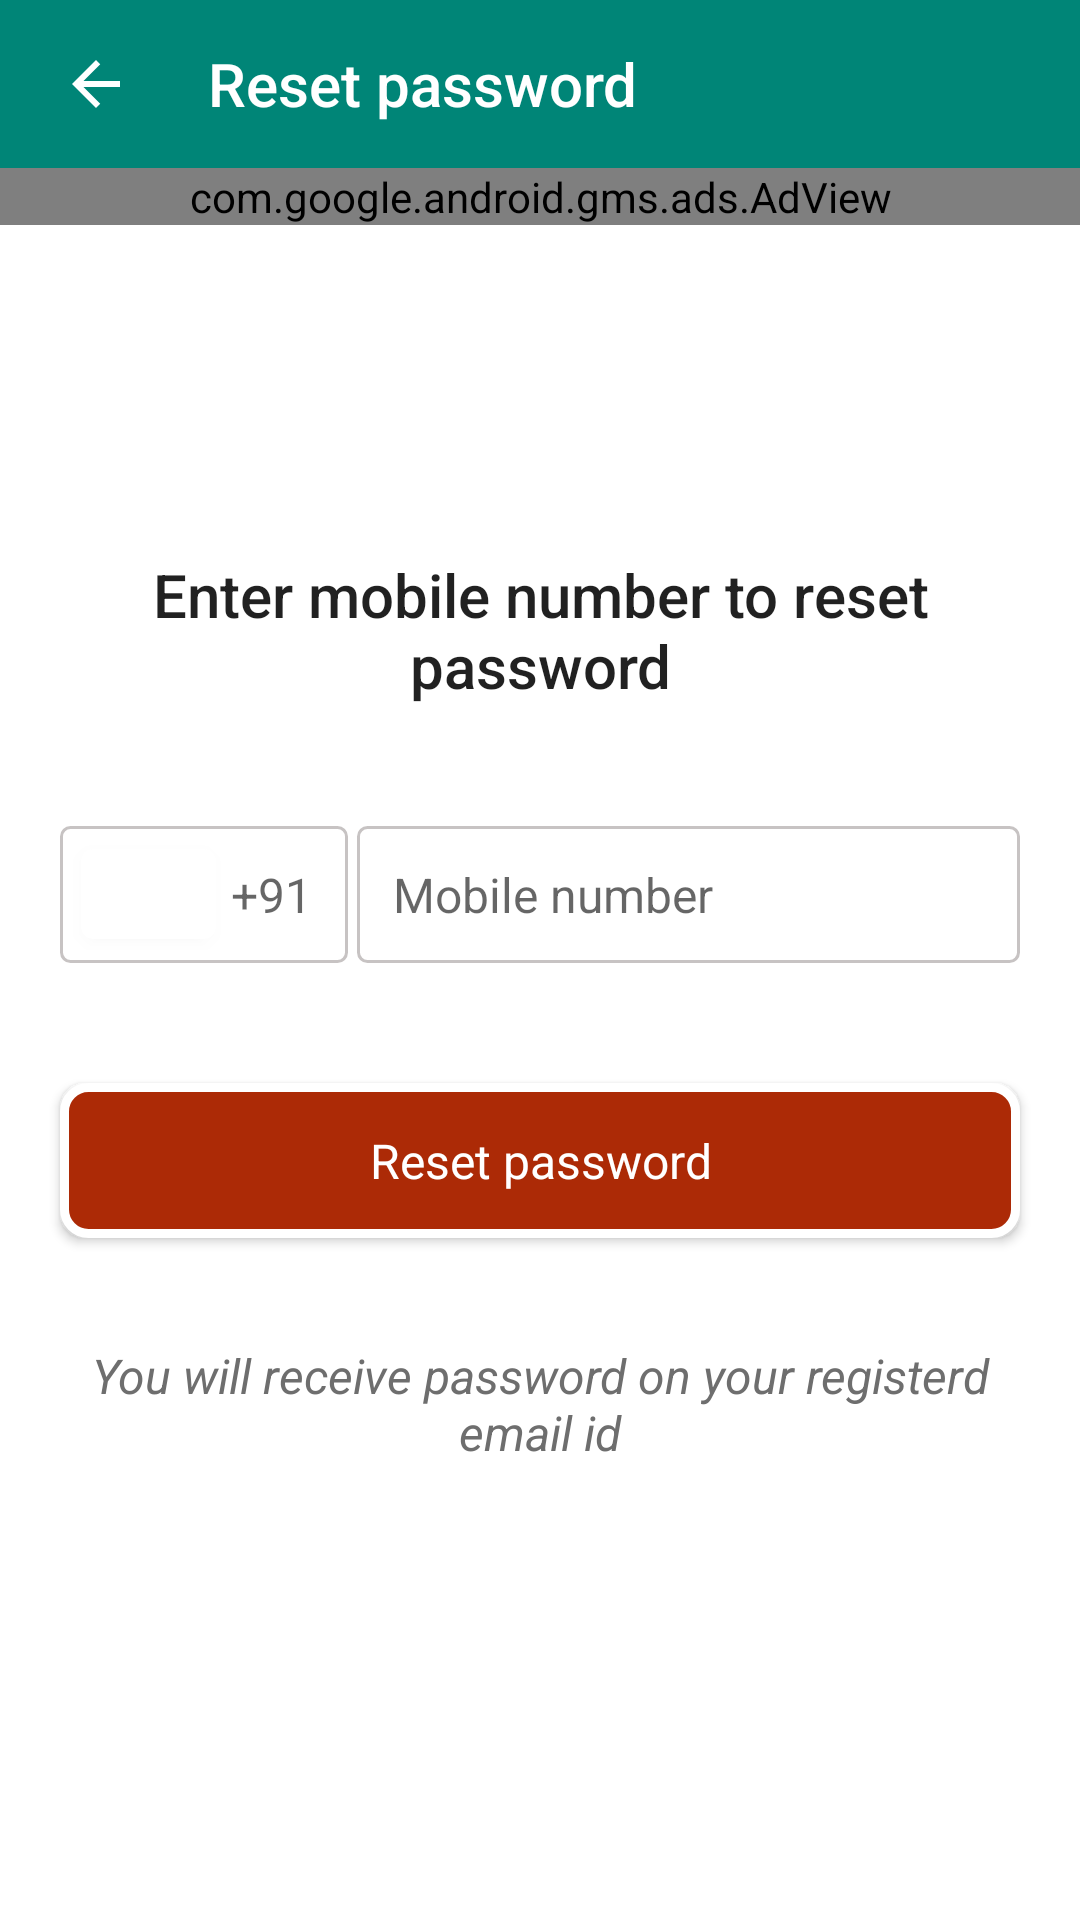

Screen size 1080 × 1920. Icon name, then its box in pixels as bbox(x1, y1, x2, y2):
arrow back: bbox(72, 60, 120, 108)
